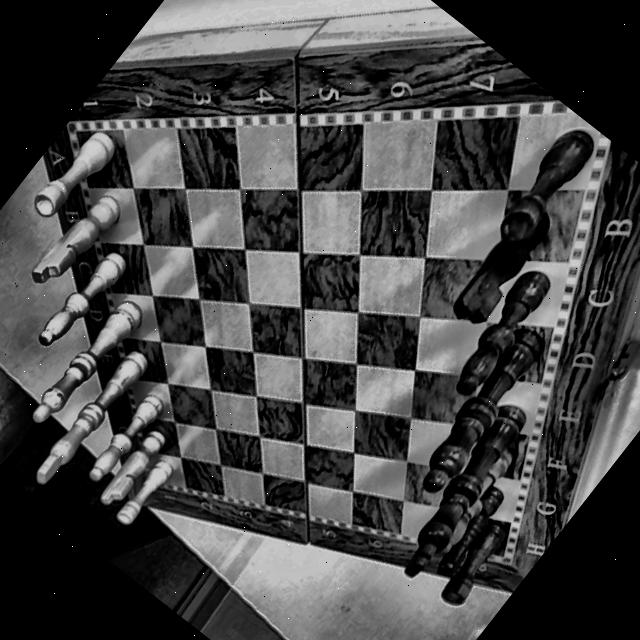white-bishop: (30, 232, 142, 362), (83, 377, 175, 485)
white-king: (19, 310, 174, 500)
white-knight: (24, 177, 131, 304), (96, 424, 170, 512)
white-queen: (26, 282, 154, 434)
white-rook: (7, 95, 138, 241), (104, 458, 184, 546)
